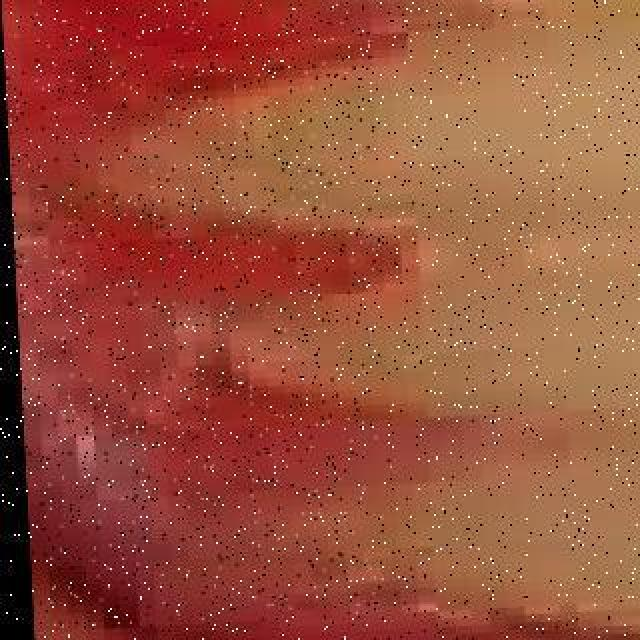calculus: (314, 44, 640, 280), (278, 0, 542, 24)
